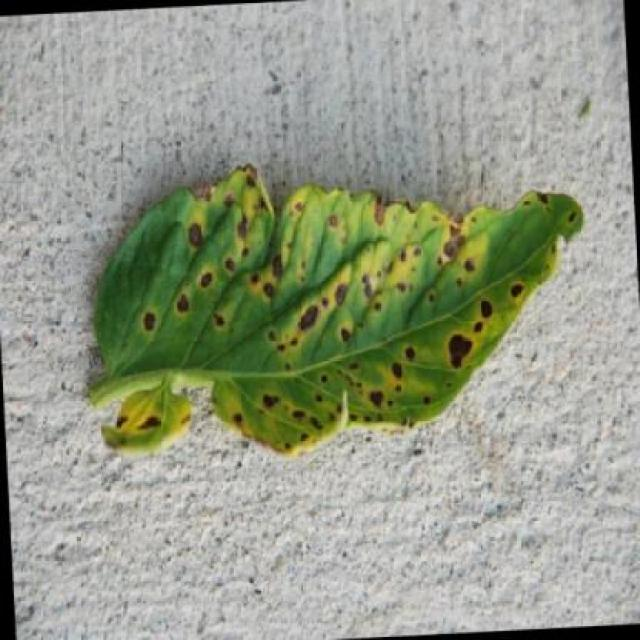Septoria leaf spot: (77, 152, 595, 472)
